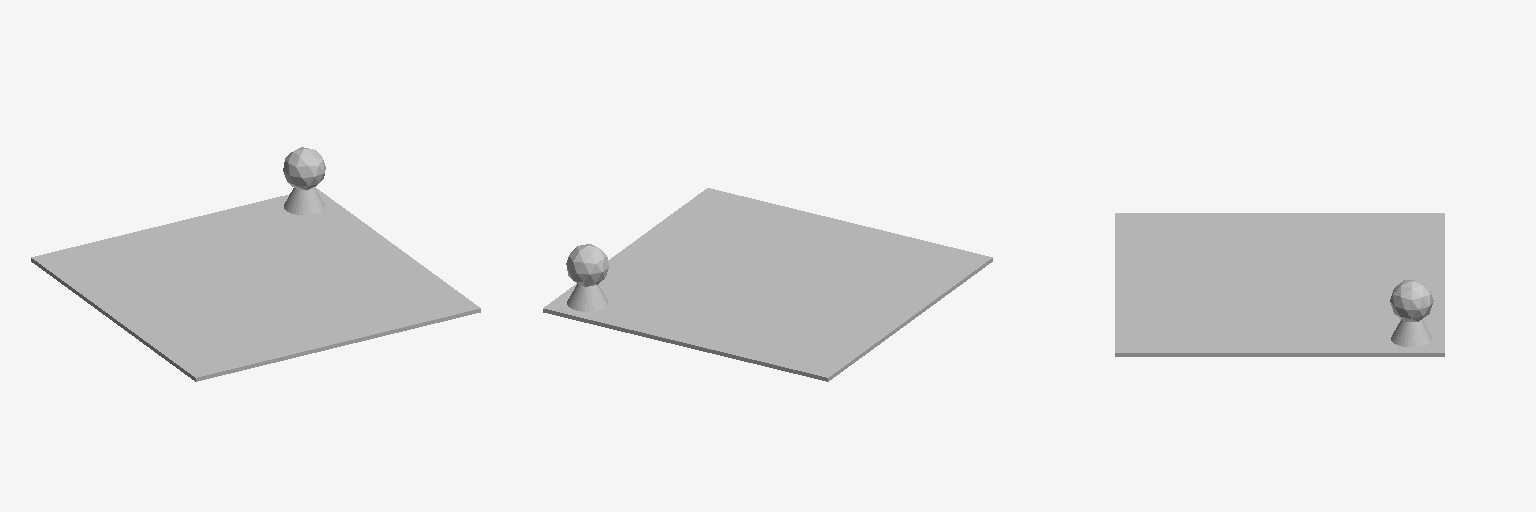
Rendered from ground_2.obj.
The picture shows the model from 3 angles: view 1: azimuth 30°, elevation 25°; view 2: azimuth 150°, elevation 25°; view 3: azimuth 270°, elevation 25°; orthographic projection.
Parts seen in each view (by area): view 1: Cone; view 2: Cone; view 3: Cone.
Part boxes in pixels (x1,y1,x2,y2): Cone: (31, 147, 480, 381); Cone: (543, 188, 992, 381); Cone: (1115, 213, 1444, 356).
Size of the model in its own units: 15 by 3.1 by 15.